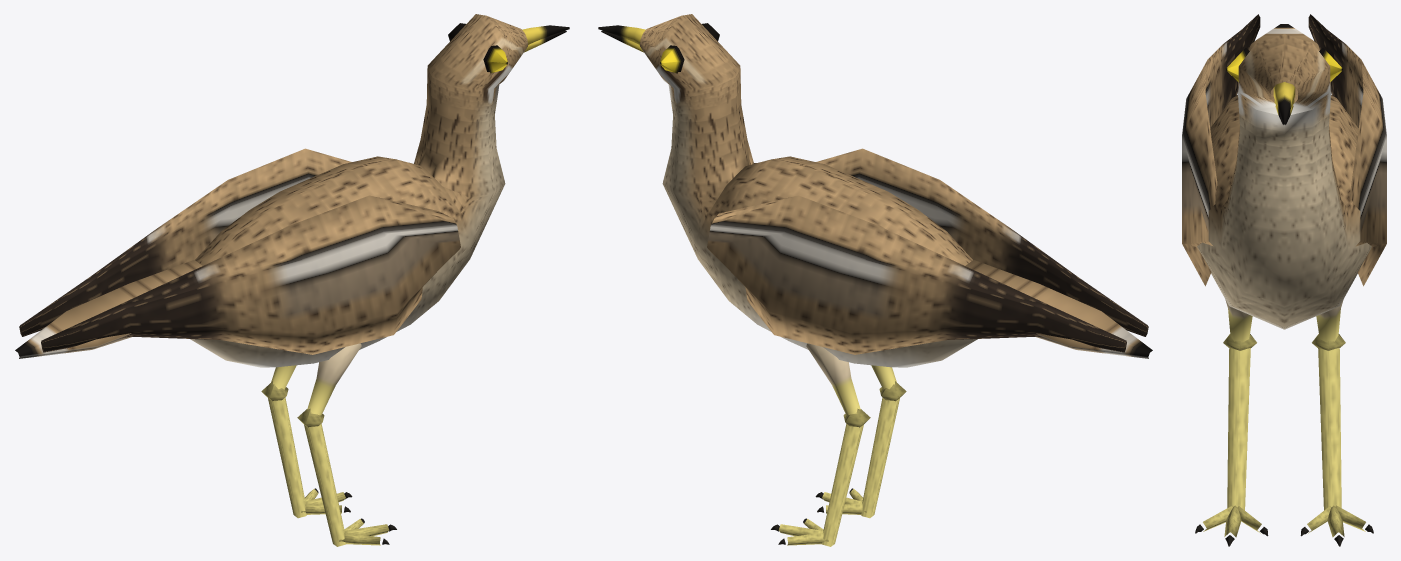
File: curlew_alert_lod1.glb
3 views of the same model, side by side, from view 1: azimuth 30°, elevation 25°; view 2: azimuth 150°, elevation 25°; view 3: azimuth 270°, elevation 25° (orthographic). The views are drawn at different scales.
Parts seen in each view (by area): view 1: curlew_body; view 2: curlew_body; view 3: curlew_body.
Boxes of the visible parts, x1=… form: curlew_body: x1=15, y1=14, x2=569, y2=546; curlew_body: x1=598, y1=14, x2=1152, y2=546; curlew_body: x1=1182, y1=14, x2=1386, y2=546.
Bounding box in the file's own units: 0.3567 × 0.292 × 0.0928.
Materials: 1 (1 with a texture image).
